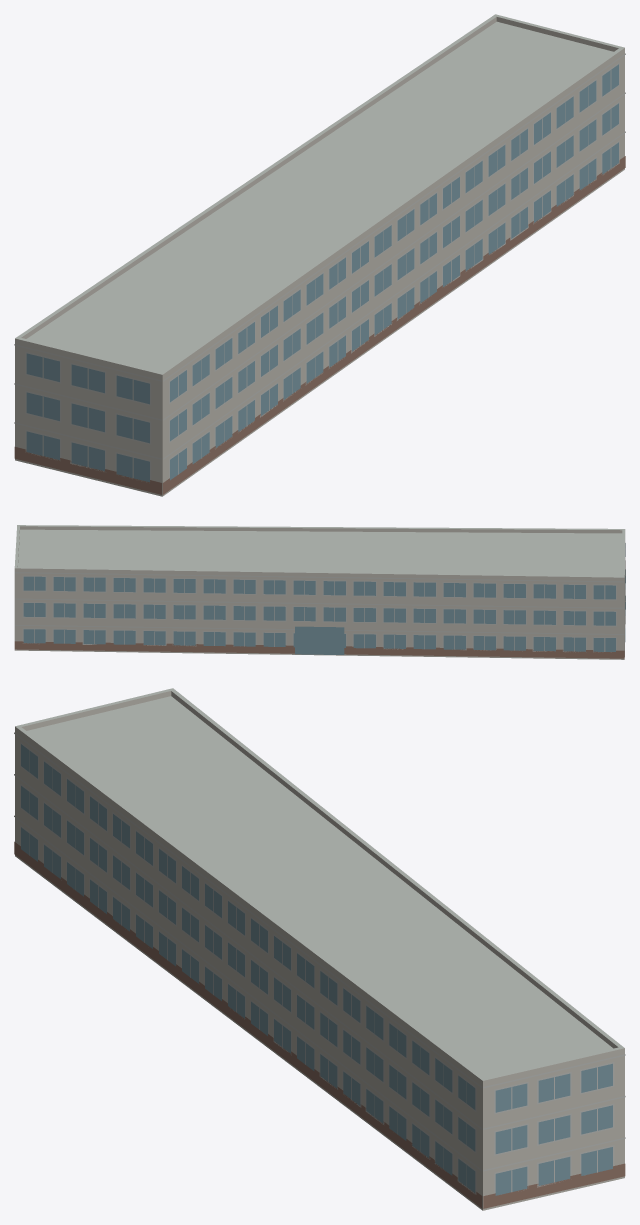
Rendered from public-0a5df94b-8775-44f3-8a1e-0deb7f534768.glb.
3 renders of one model, top to bottom at view 1: azimuth 30°, elevation 25°; view 2: azimuth 150°, elevation 25°; view 3: azimuth 270°, elevation 25°, orthographic. The views are drawn at different scales.
Parts seen in each view (by area): view 1: public-0a5df94b-8775-44f3-8a1e-0deb7f534768; view 2: public-0a5df94b-8775-44f3-8a1e-0deb7f534768; view 3: public-0a5df94b-8775-44f3-8a1e-0deb7f534768.
Boxes of the visible parts, box(x1,y1,x2,y2) form: public-0a5df94b-8775-44f3-8a1e-0deb7f534768: box(14, 14, 625, 496); public-0a5df94b-8775-44f3-8a1e-0deb7f534768: box(14, 525, 625, 659); public-0a5df94b-8775-44f3-8a1e-0deb7f534768: box(14, 688, 625, 1210).
Bounding box in the file's own units: 59.47 × 9.15 × 39.07.
